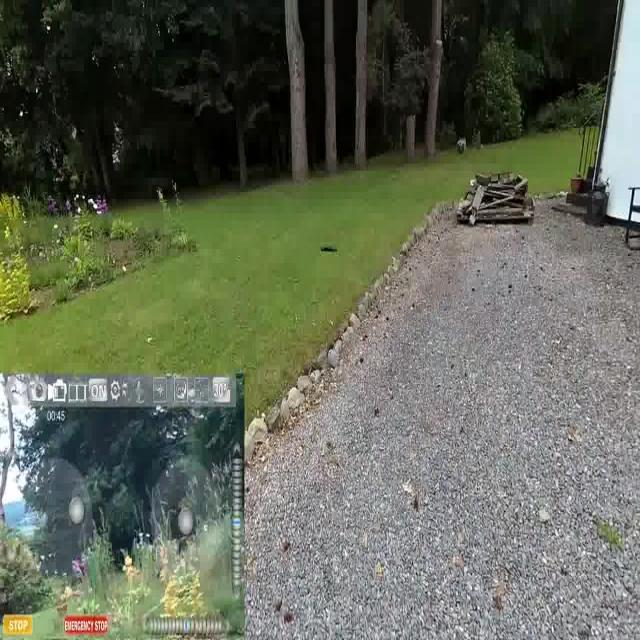drones: (318, 232, 346, 270)
